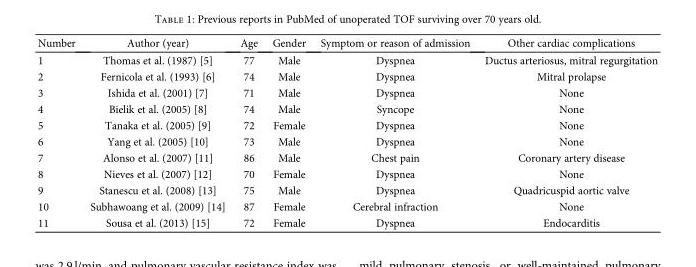table: (36, 36, 657, 228)
table column: (476, 36, 657, 228), (312, 36, 476, 228), (82, 36, 232, 228), (264, 36, 312, 228), (36, 36, 82, 228), (232, 36, 264, 228)
table column header: (36, 36, 657, 51)
table row: (36, 51, 657, 68), (36, 116, 657, 133), (36, 181, 657, 198), (36, 68, 657, 84), (36, 84, 657, 100), (36, 100, 657, 116), (36, 133, 657, 149), (36, 149, 657, 165), (36, 165, 657, 181), (36, 198, 657, 214), (36, 36, 657, 51), (36, 214, 657, 228)
